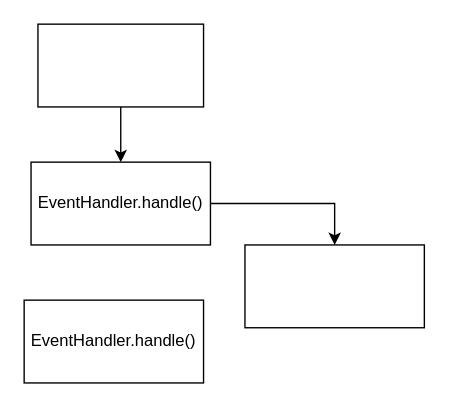
This 449x407 diagram has some shape labels left out. The shapes that lost their labels are listed below. From the top down, each one's box as (x1, y1, x2, y2) in pixels, then its label:
(37, 23, 204, 107): Level.update
(244, 244, 424, 328): Handle Player input and other events
